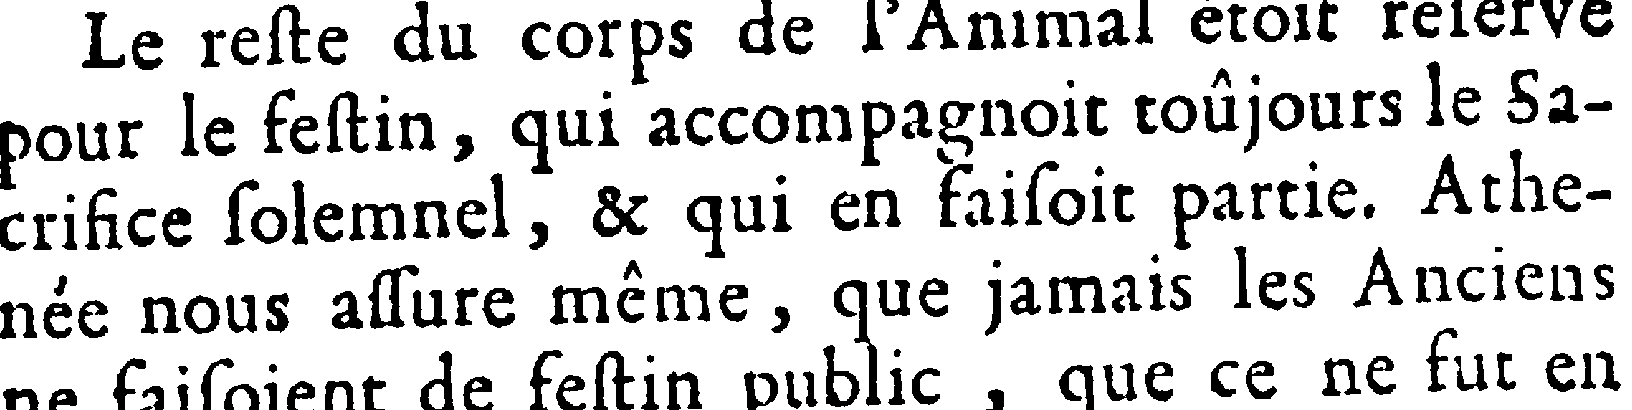st: (321, 87, 369, 156), (267, 2, 316, 69), (594, 345, 636, 410)
